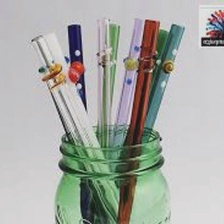drinking_straw: (94, 16, 118, 223)
glass: (49, 121, 173, 223)
